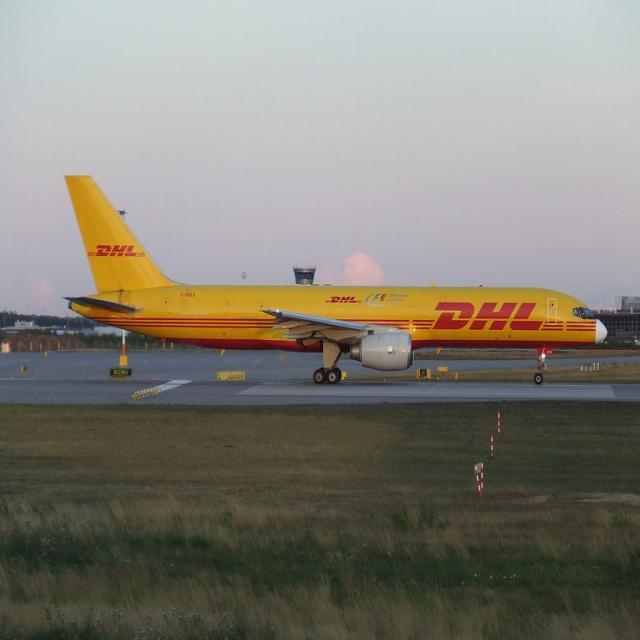dhl: (411, 300, 568, 335), (85, 244, 148, 258), (324, 289, 366, 310)
